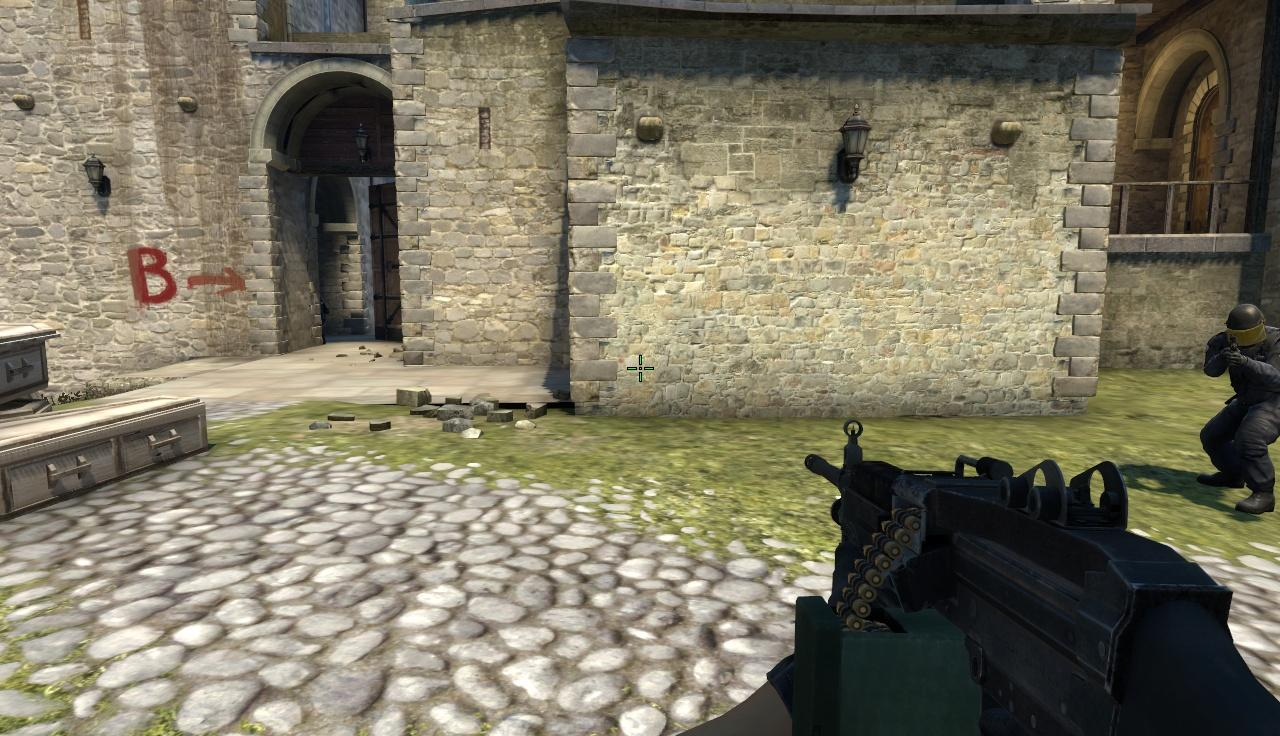ct: (1202, 304, 1280, 518)
cthead: (1225, 304, 1266, 347)
rifle: (802, 444, 1280, 736)
